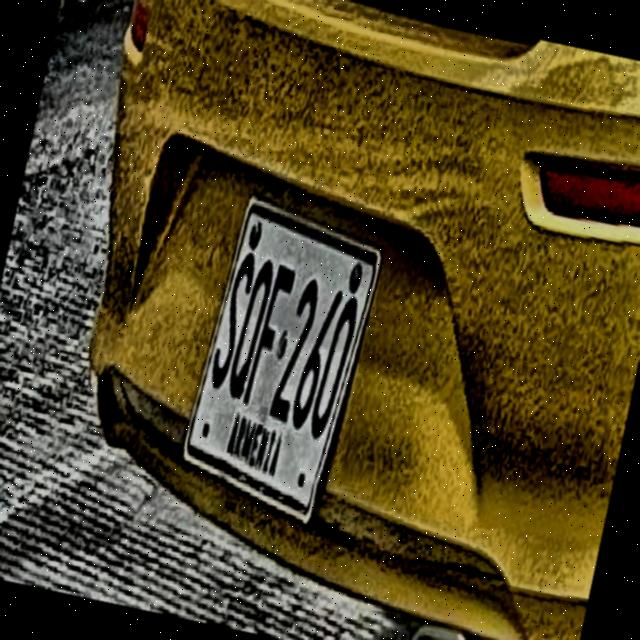0: (303, 292, 364, 441)
2: (264, 275, 327, 424)
6: (285, 286, 345, 434)
F: (240, 263, 301, 409)
Q: (222, 255, 278, 403)
S: (205, 249, 261, 393)
